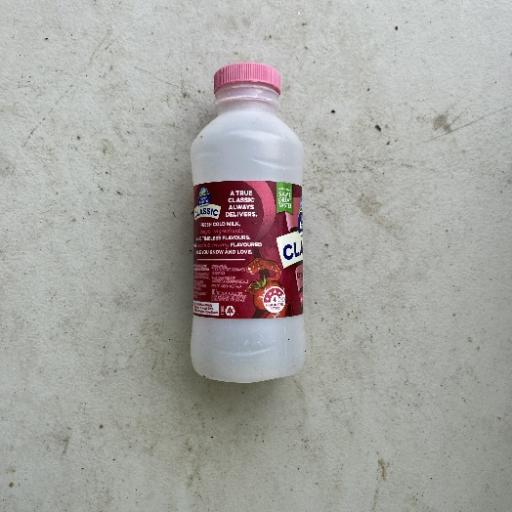Plastic: (186, 61, 306, 384)
